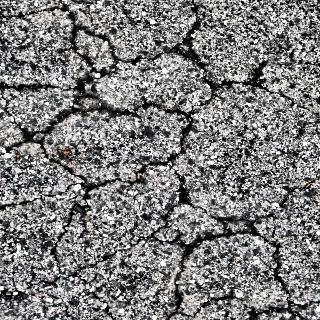alligator-crack: (2, 6, 320, 320)
